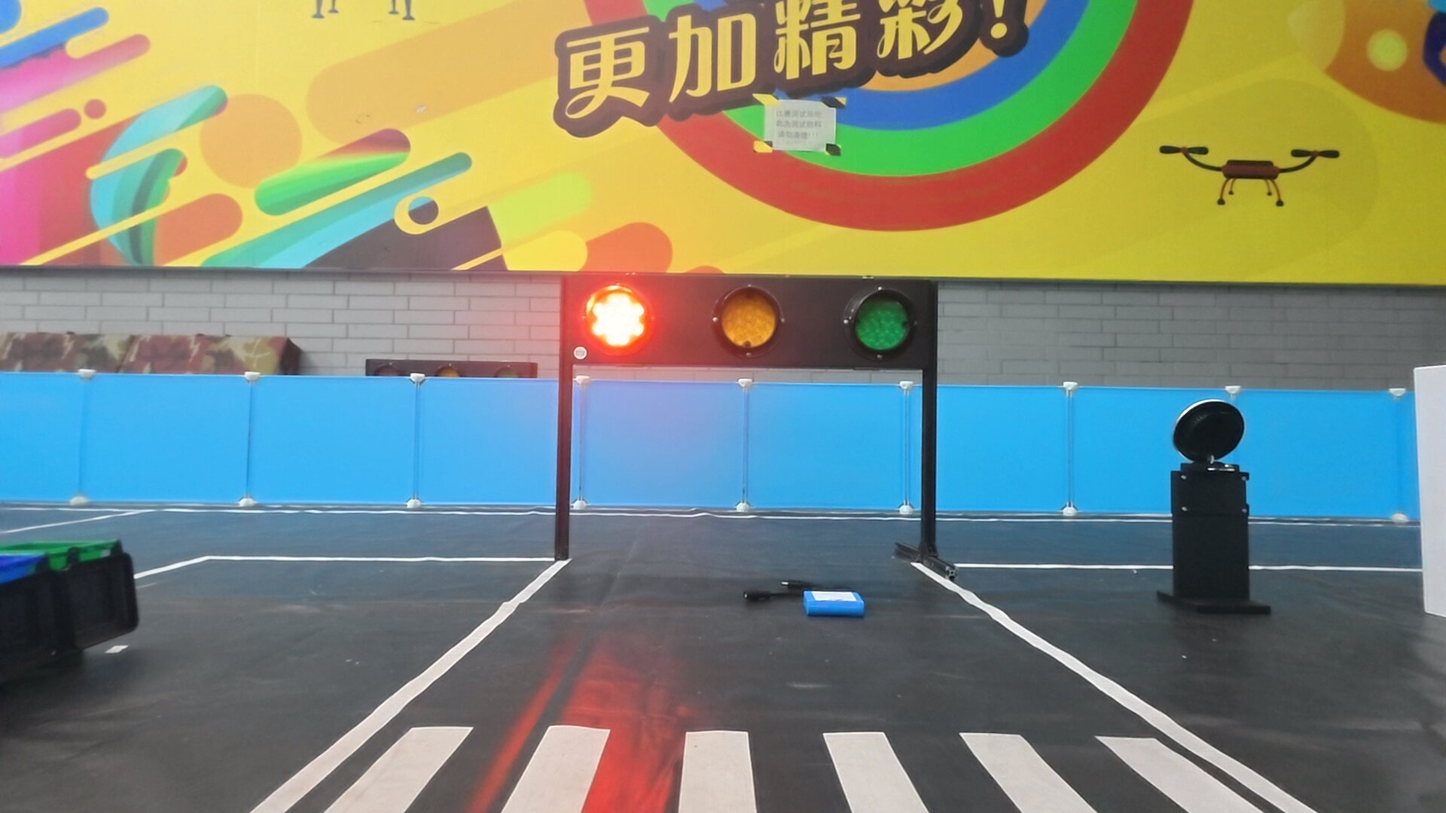stop: (580, 281, 653, 354)
